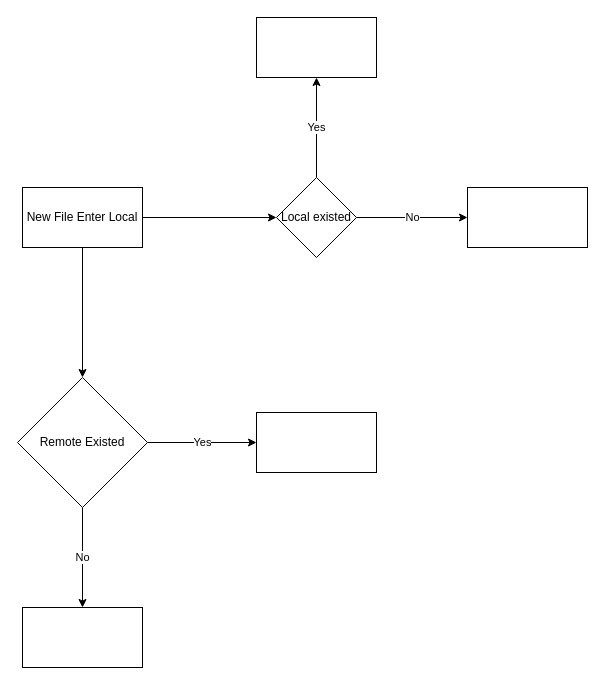
Image size: 605x685. Some labels were removed from this diagram. The shapes that lost their labels are listed below. From the top down, each one's box as (x1, y1, x2, y2) in pixels, then its label:
(256, 412, 376, 472): Ensure the name is the same
(22, 606, 142, 668): Link or copy to remote
